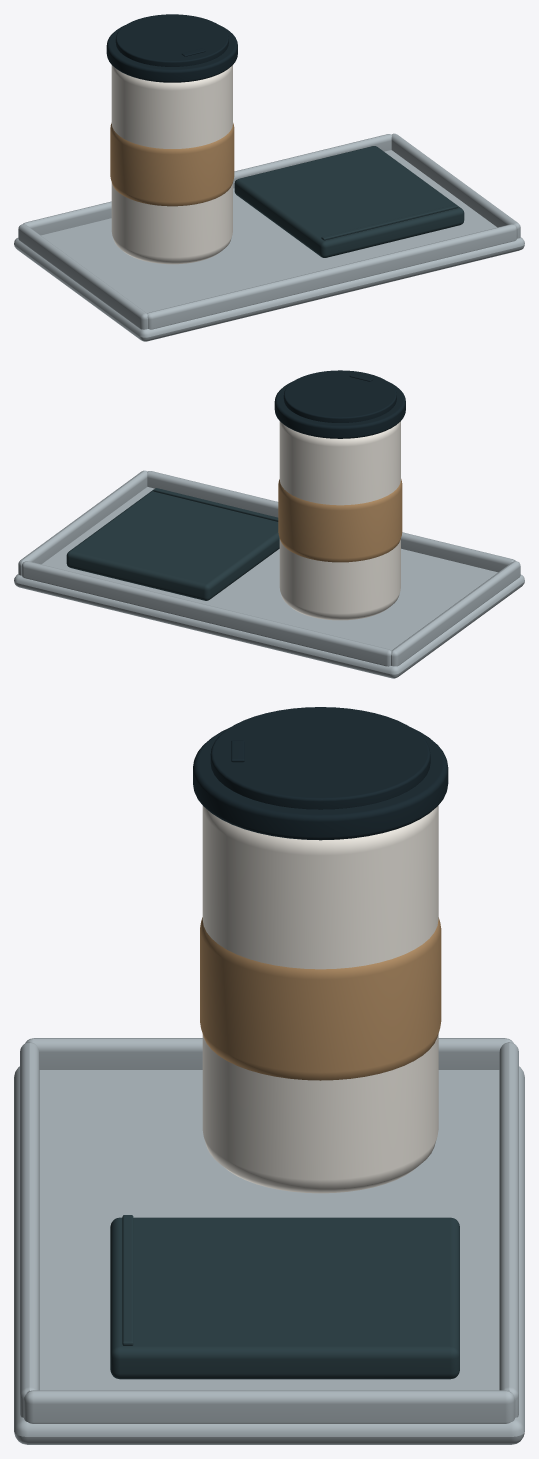
File: work-food-modern.glb
The picture shows the model from 3 angles, top to bottom: view 1: azimuth 30°, elevation 25°; view 2: azimuth 150°, elevation 25°; view 3: azimuth 270°, elevation 25°; orthographic projection. The views are drawn at different scales.
Parts seen in each view (by area): view 1: Satin service tray, Cream takeaway cup, Folded teal service cloth, Cup kraft sleeve, Tray rolled end, Raised lid lip, Tray rolled end.001, Tray rolled side, Charcoal cup lid, Tray rolled side.001, Cloth folded seam; view 2: Satin service tray, Cream takeaway cup, Folded teal service cloth, Cup kraft sleeve, Tray rolled end.001, Raised lid lip, Tray rolled end, Tray rolled side, Charcoal cup lid, Tray rolled side.001, Cloth folded seam; view 3: Satin service tray, Cream takeaway cup, Folded teal service cloth, Cup kraft sleeve, Raised lid lip, Tray rolled side.001, Charcoal cup lid, Tray rolled side, Tray rolled end, Tray rolled end.001, Cloth folded seam.
Boxes of the visible parts, left/top/right/bottom form: Satin service tray: left=14, top=150, right=524, bottom=341; Cream takeaway cup: left=111, top=65, right=232, bottom=264; Folded teal service cloth: left=234, top=146, right=464, bottom=257; Cup kraft sleeve: left=110, top=123, right=234, bottom=206; Tray rolled end: left=147, top=224, right=517, bottom=329; Raised lid lip: left=115, top=14, right=228, bottom=66; Tray rolled end.001: left=23, top=134, right=391, bottom=235; Tray rolled side: left=18, top=224, right=147, bottom=329; Charcoal cup lid: left=106, top=25, right=237, bottom=82; Tray rolled side.001: left=391, top=133, right=520, bottom=238; Cloth folded seam: left=321, top=204, right=458, bottom=240; Satin service tray: left=14, top=487, right=524, bottom=678; Cream takeaway cup: left=279, top=421, right=400, bottom=620; Folded teal service cloth: left=66, top=490, right=279, bottom=600; Cup kraft sleeve: left=278, top=479, right=402, bottom=562; Tray rolled end.001: left=21, top=561, right=391, bottom=666; Raised lid lip: left=283, top=370, right=396, bottom=422; Tray rolled end: left=147, top=471, right=515, bottom=572; Tray rolled side: left=391, top=561, right=520, bottom=666; Charcoal cup lid: left=274, top=381, right=405, bottom=438; Tray rolled side.001: left=18, top=470, right=147, bottom=575; Cloth folded seam: left=153, top=488, right=278, bottom=521; Satin service tray: left=14, top=1066, right=524, bottom=1444; Cream takeaway cup: left=202, top=805, right=438, bottom=1193; Folded teal service cloth: left=110, top=1217, right=459, bottom=1379; Cup kraft sleeve: left=200, top=917, right=441, bottom=1080; Raised lid lip: left=210, top=707, right=430, bottom=809; Tray rolled side.001: left=23, top=1390, right=515, bottom=1423; Charcoal cup lid: left=193, top=727, right=448, bottom=840; Tray rolled side: left=25, top=1038, right=513, bottom=1069; Tray rolled end: left=20, top=1042, right=39, bottom=1417; Tray rolled end.001: left=499, top=1042, right=518, bottom=1417; Cloth folded seam: left=122, top=1215, right=133, bottom=1345.
Bounding box in the file's own units: 4.59 × 2.56 × 2.71.
